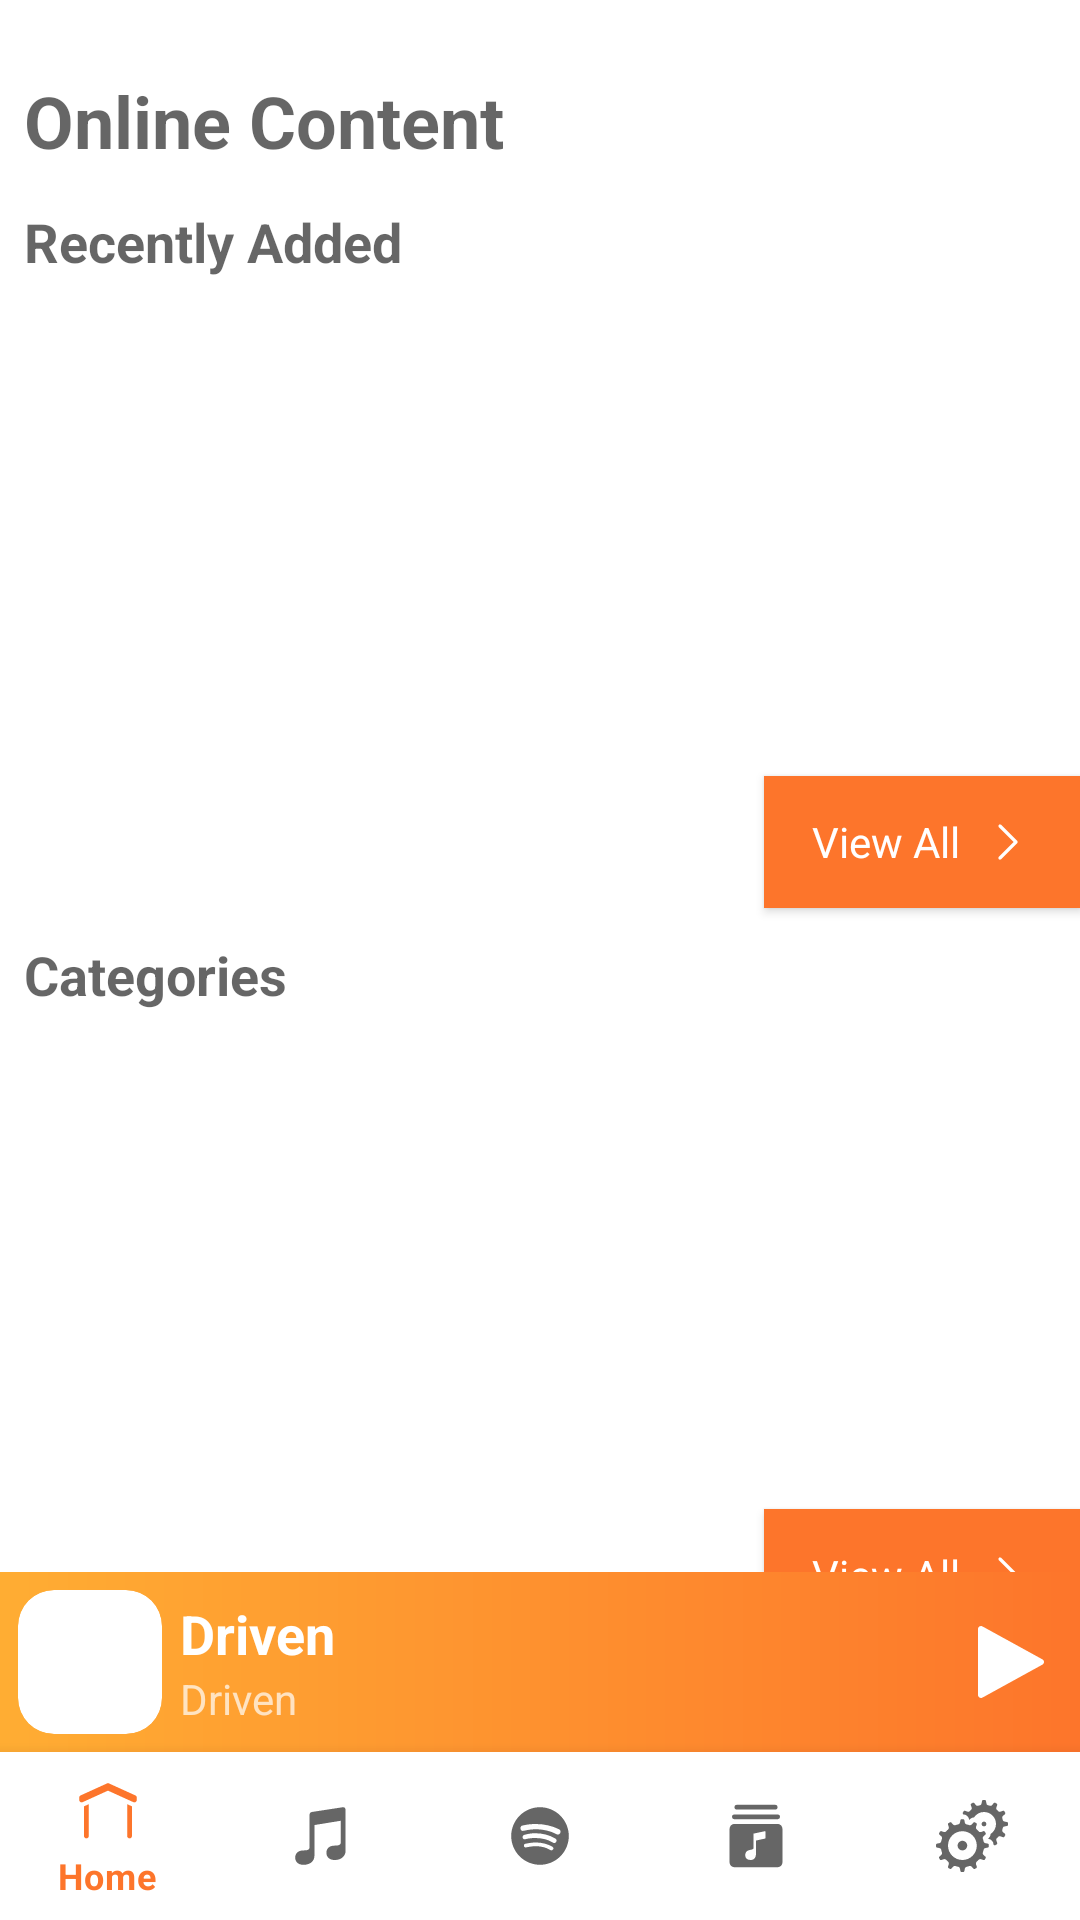

Screen size 1080px×1920px. Icon name, then its box in pixels as (x1, y1, x2, y2):
play: (978, 1626, 1044, 1698)
